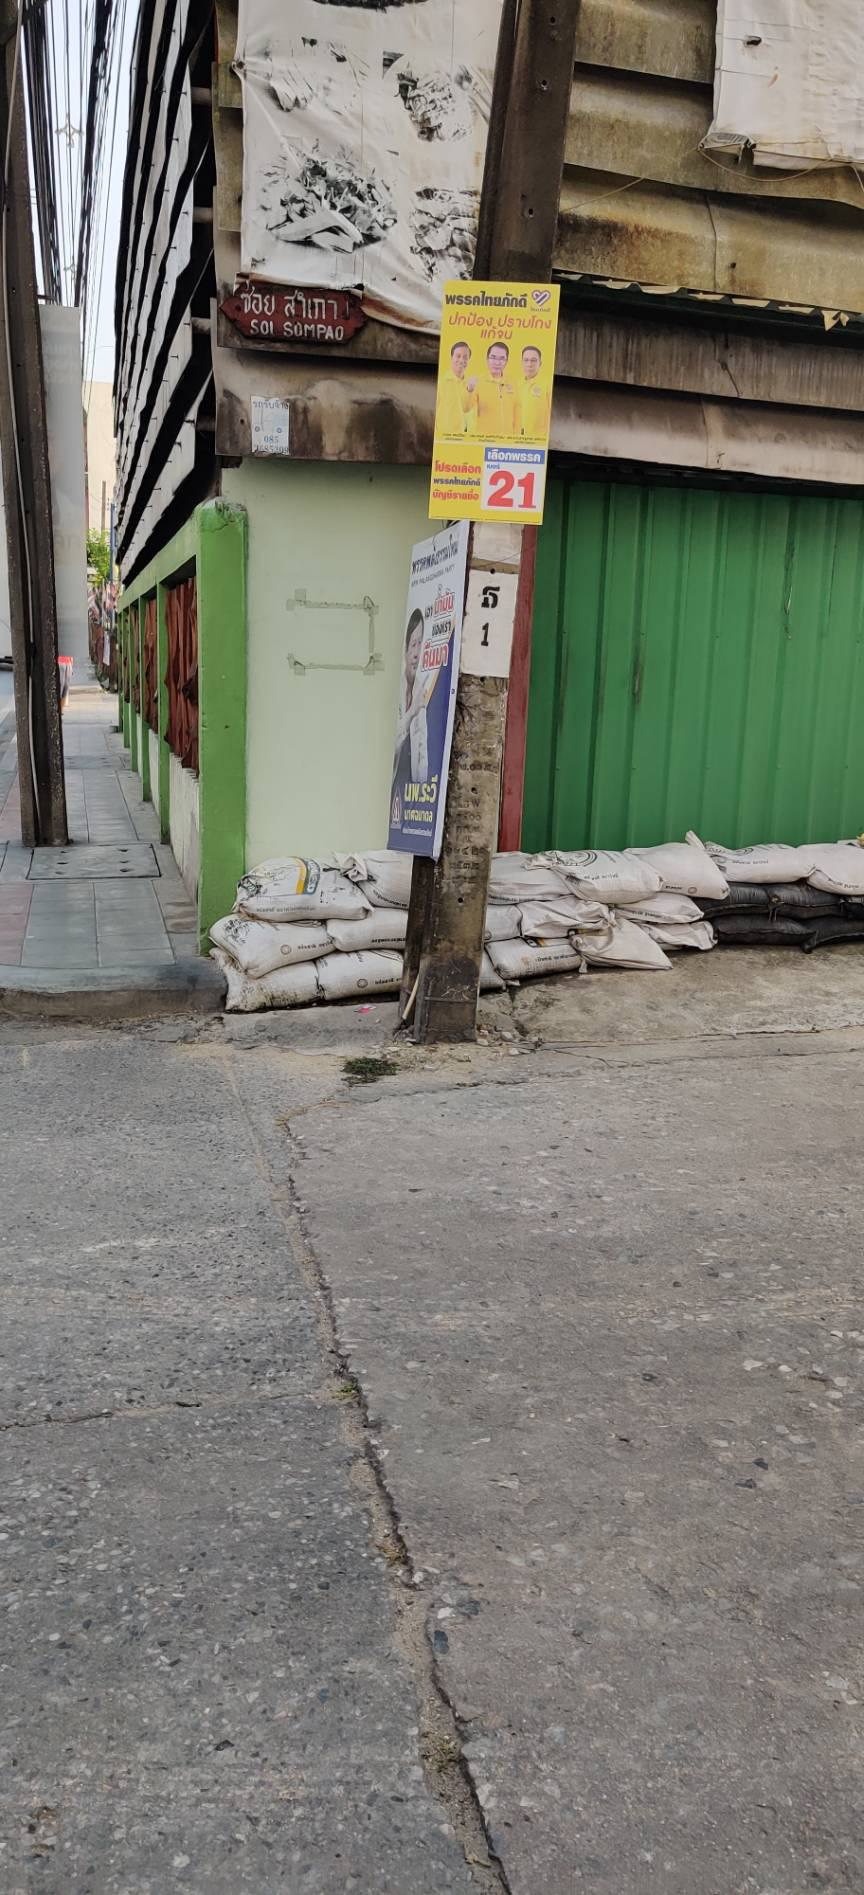Banner: (422, 262, 562, 537)
